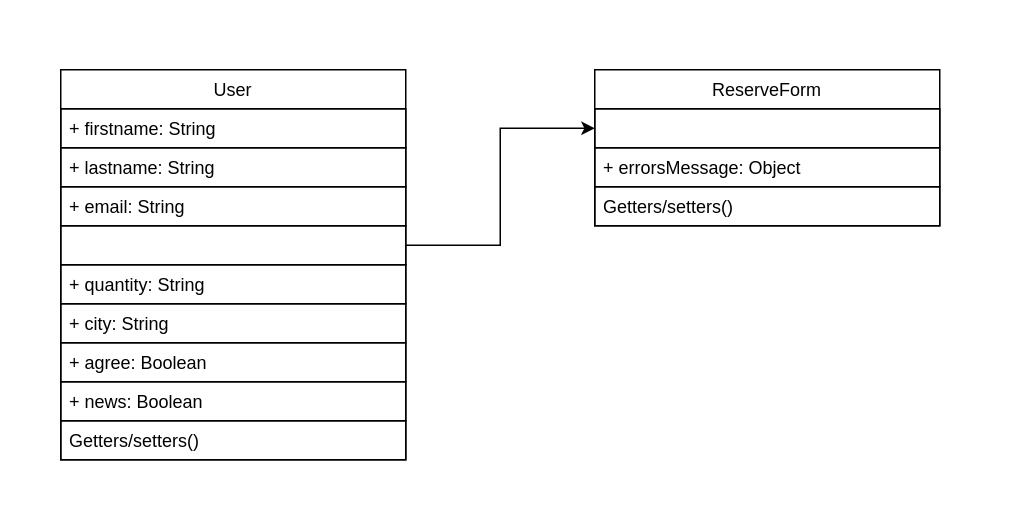
This 1010x530 diagram has some shape labels left out. Here are the shapes that lost their labels. From the top down, the centre of each, then its label:
At (x=766, y=127): "+ user: Object".
At (x=232, y=244): "+ birthdate: String".
